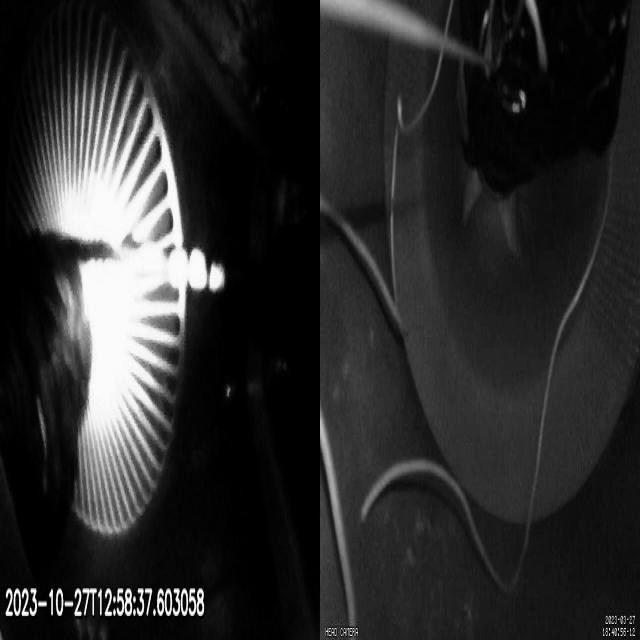white-dots: (169, 245, 225, 297)
